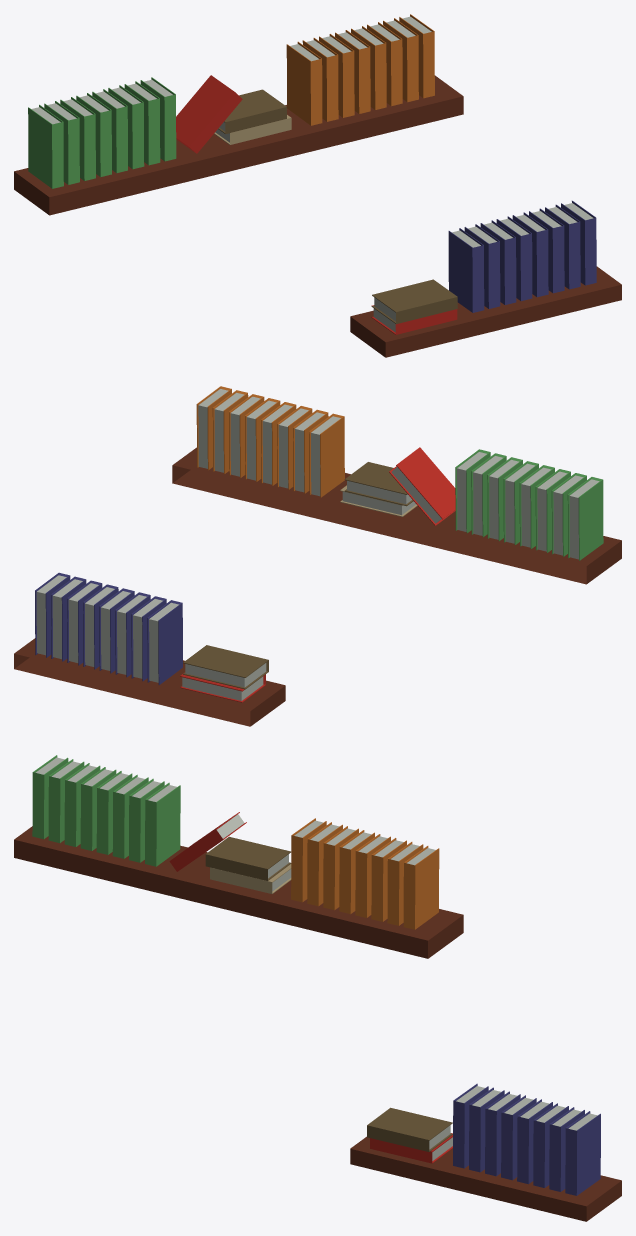
Rendered from Wall Shelves.fbx.
3 views of the same model, one above another, from view 1: azimuth 30°, elevation 25°; view 2: azimuth 150°, elevation 25°; view 3: azimuth 330°, elevation 25° (orthographic).
Visible parts, largest first — view 1: Wall Shelves; view 2: Wall Shelves; view 3: Wall Shelves.
Part boxes in pixels (box(x1,y1,x2,y2)): Wall Shelves: box(14, 14, 621, 357); Wall Shelves: box(14, 386, 621, 726); Wall Shelves: box(14, 755, 621, 1221).
Size of the model in its own units: 79.08 by 40.48 by 8.48.
